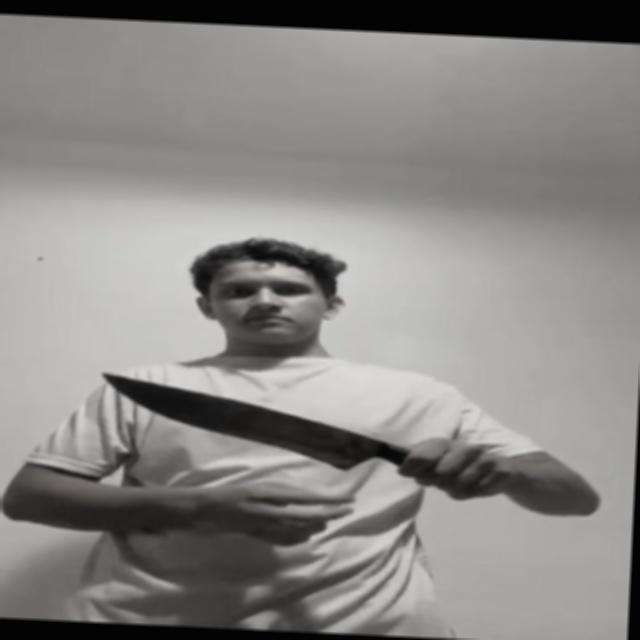Sharp-Object: (94, 371, 387, 470)
